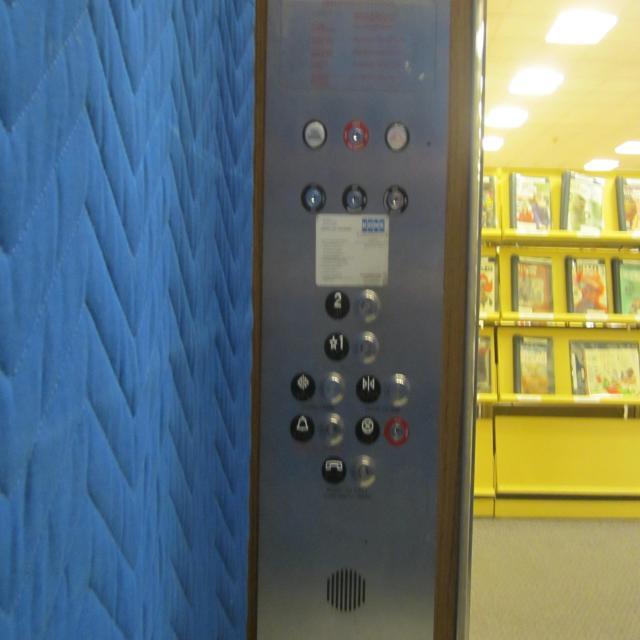2: (323, 288, 351, 321)
alarm: (289, 410, 315, 442)
call: (320, 453, 346, 484)
close: (354, 372, 381, 403)
empty: (383, 370, 412, 406), (317, 370, 346, 405), (317, 410, 346, 445), (349, 451, 378, 486), (352, 330, 380, 363), (354, 288, 381, 321)
keyhole: (299, 180, 327, 213), (382, 414, 410, 447), (342, 118, 369, 152), (340, 182, 368, 214), (381, 183, 408, 215)
open: (289, 370, 315, 401)
s1: (322, 329, 350, 361)
stop: (354, 413, 381, 445)
text: (302, 117, 328, 152)
unknown: (382, 118, 410, 152)
